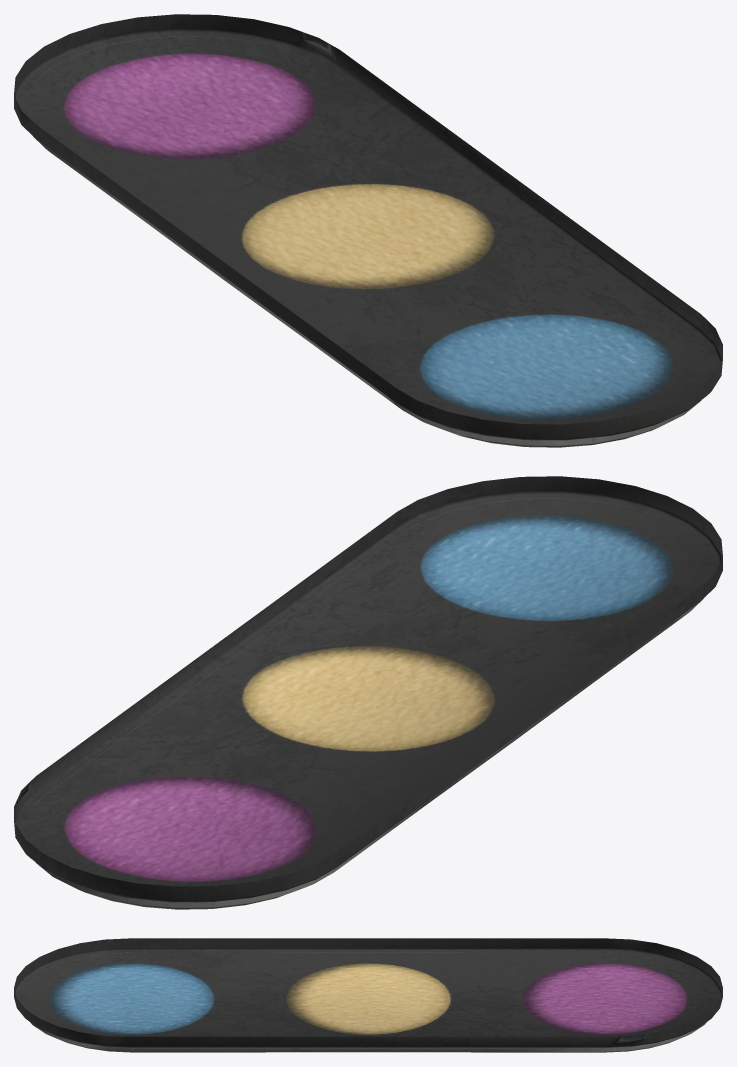
File: nt_2020_wall_design01_LOD0.obj
The picture shows the model from 3 angles, top to bottom: view 1: azimuth 30°, elevation 25°; view 2: azimuth 150°, elevation 25°; view 3: azimuth 270°, elevation 25°; orthographic projection. The views are drawn at different scales.
Parts seen in each view (by area): view 1: mtl_nt_2020_wall_design01; view 2: mtl_nt_2020_wall_design01; view 3: mtl_nt_2020_wall_design01.
Boxes of the visible parts, left/top/right/bottom form: mtl_nt_2020_wall_design01: left=14, top=14, right=722, bottom=447; mtl_nt_2020_wall_design01: left=14, top=476, right=722, bottom=909; mtl_nt_2020_wall_design01: left=14, top=938, right=722, bottom=1052.
Bounding box in the file's own units: 79.72 × 8.3 × 242.
